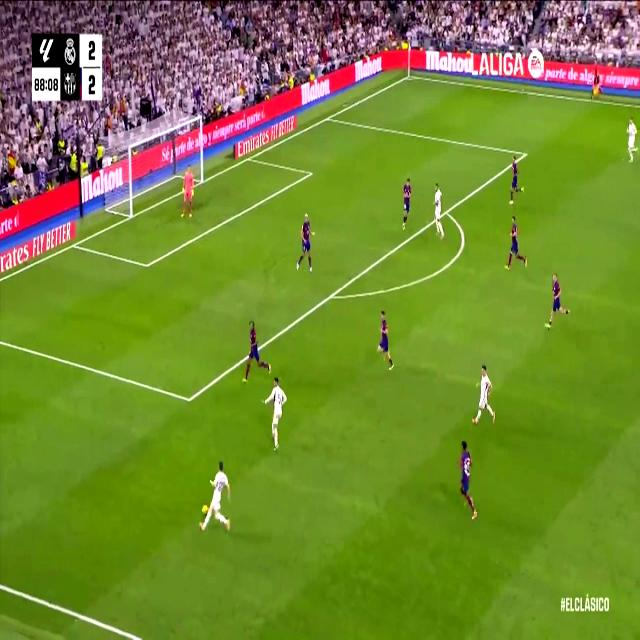bigarea_bottom_inner: (183, 386, 194, 412)
bigarea_top_inner: (520, 144, 529, 162)
bigarea_top_outter: (324, 110, 332, 124)
bottom_arc_area_intersection: (325, 282, 338, 308)
corner: (404, 69, 414, 81)
smallarea_bottom_inner: (142, 255, 152, 276)
smallarea_top_inner: (307, 166, 314, 180)
top_arc_area_intersection: (442, 201, 450, 220)
